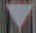Give way: (3, 0, 35, 30)
